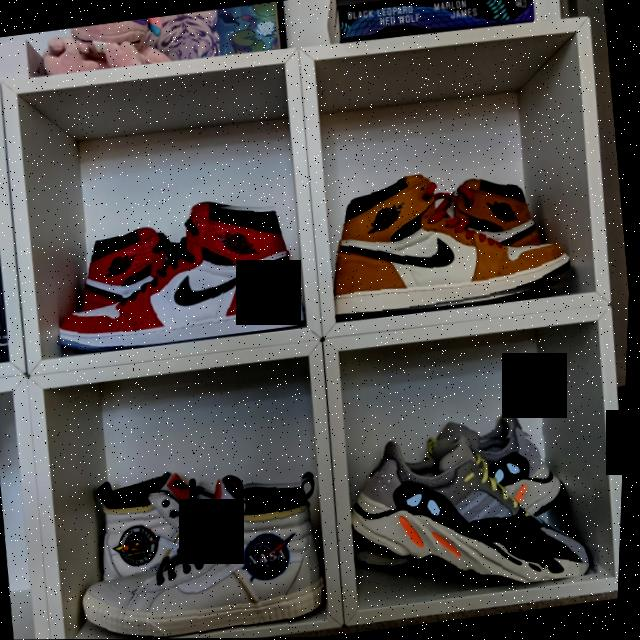shoe: (346, 421, 610, 604), (72, 472, 337, 639), (48, 194, 310, 356), (327, 157, 578, 322), (95, 476, 212, 572), (482, 415, 575, 506)
